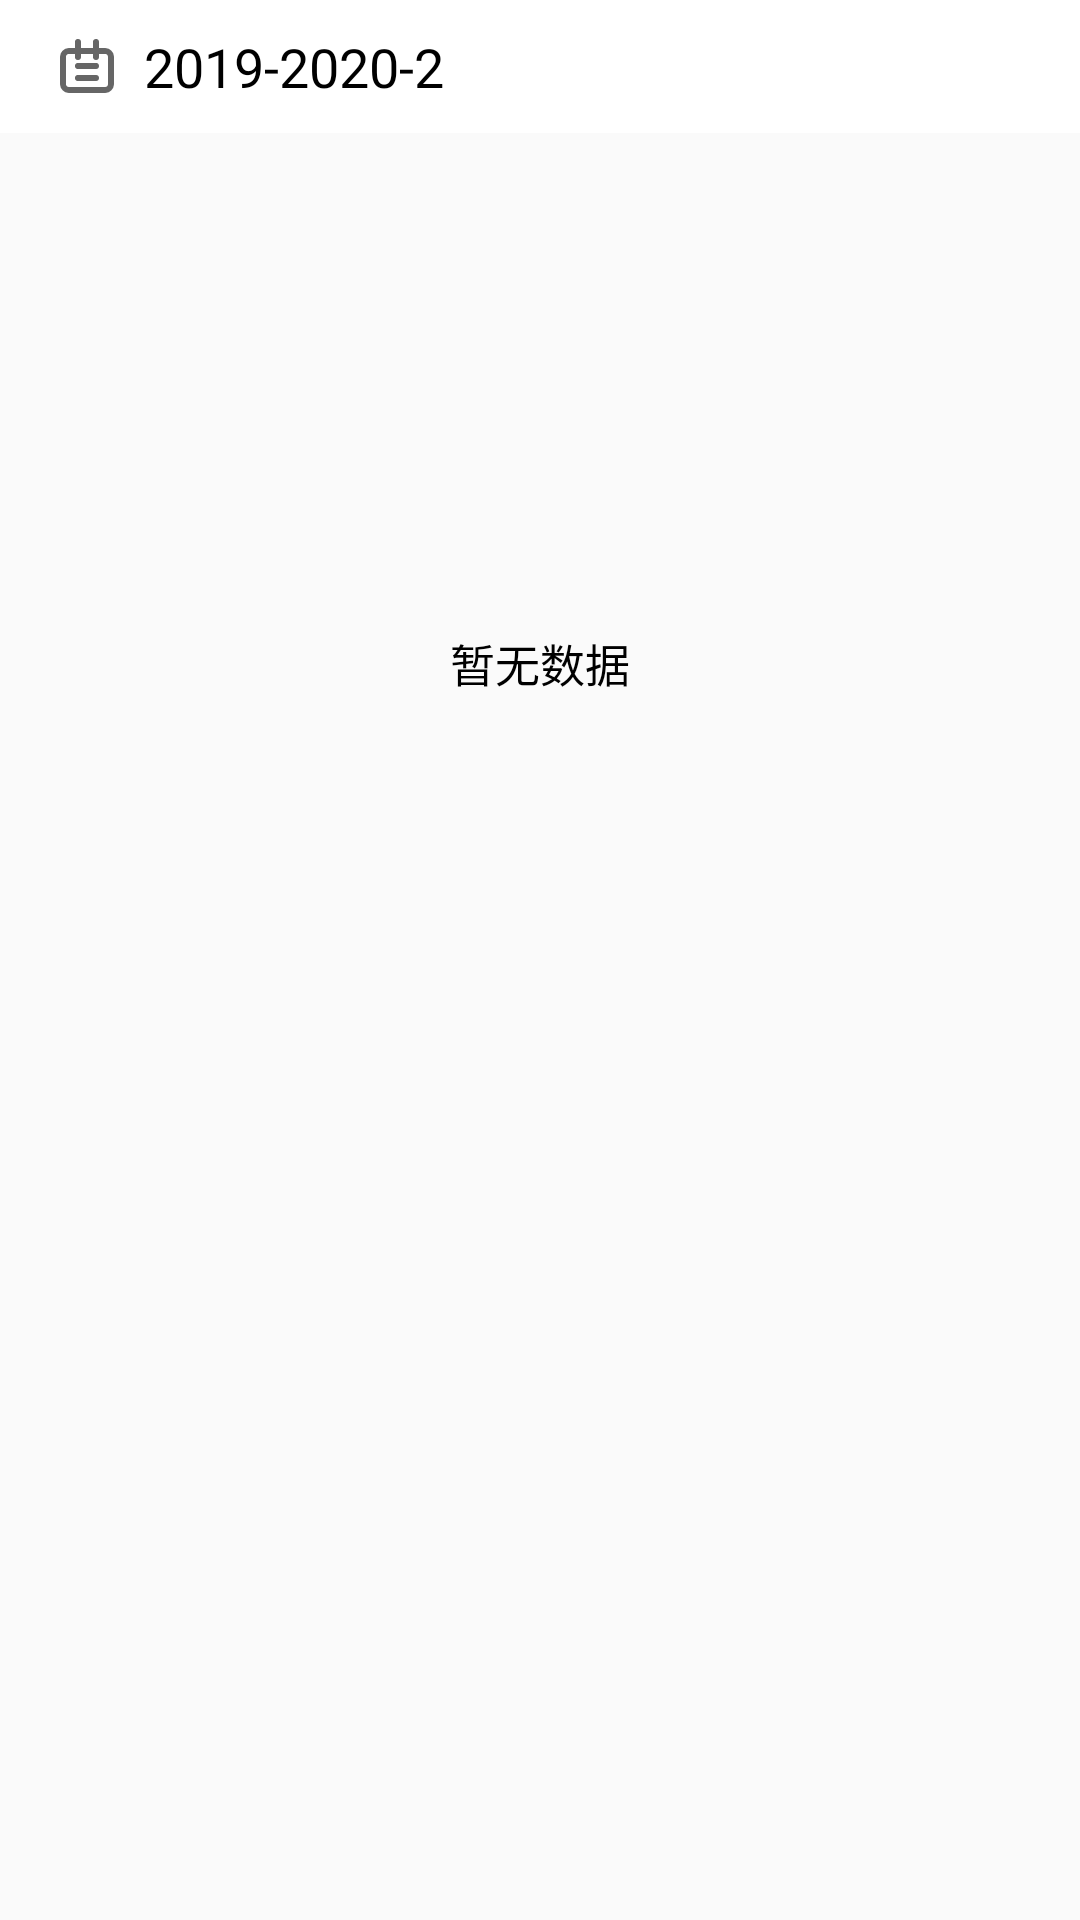

Icons on this 1080 x 1920 Android screen, each with the point to tap as (x=x, y=y):
calendar: (x=87, y=66)
